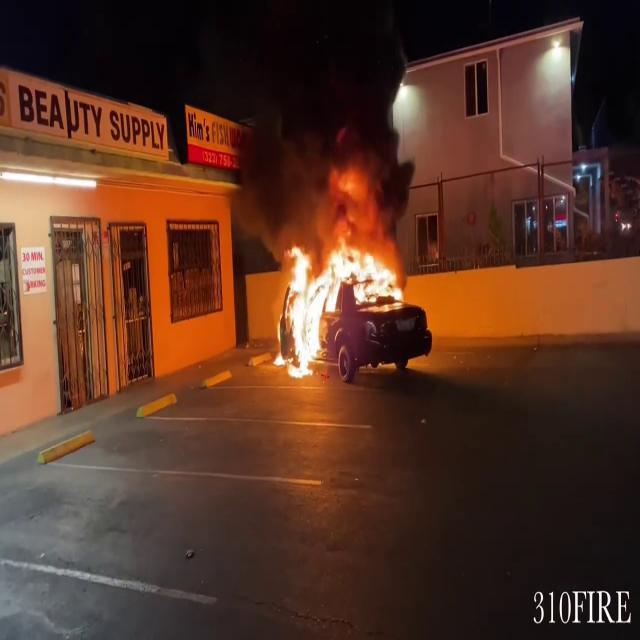Fire: (271, 221, 416, 376)
Smoke: (232, 6, 416, 238)
